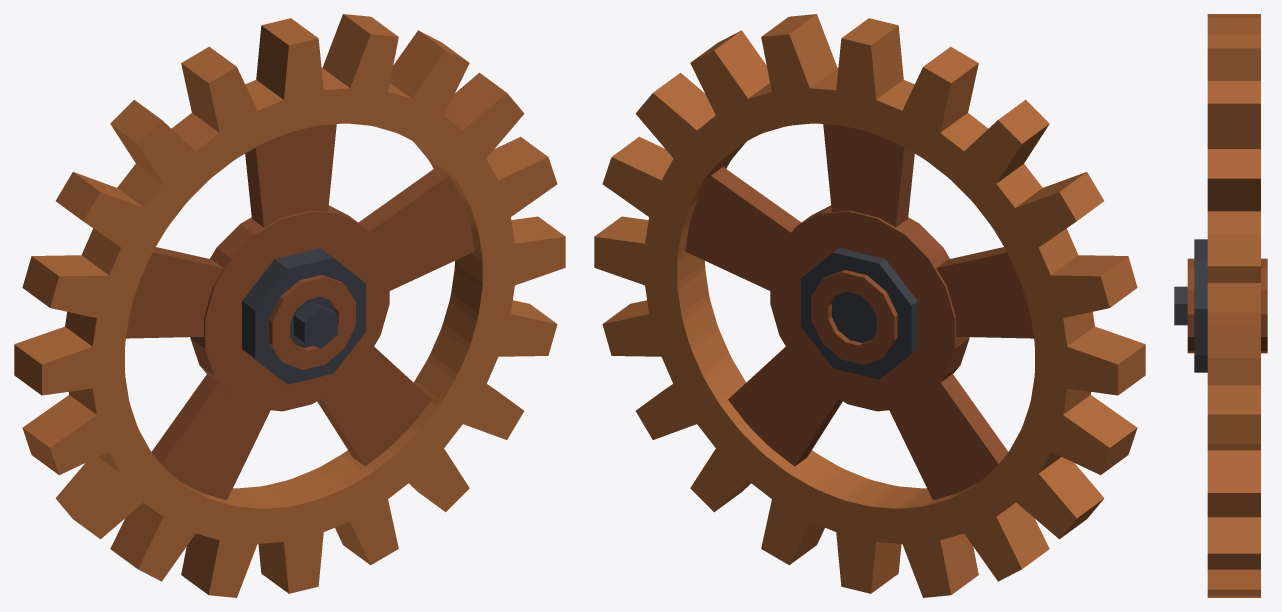
Rendered from gear_fixed_m.fbx.
The picture shows the model from 3 angles, left to right: view 1: azimuth 30°, elevation 25°; view 2: azimuth 150°, elevation 25°; view 3: azimuth 270°, elevation 25°; orthographic projection. The views are drawn at different scales.
Parts seen in each view (by area): view 1: Gear_Fixed_M_Rim, Gear_Fixed_M_Spokes, Gear_Fixed_M_Hub; view 2: Gear_Fixed_M_Rim, Gear_Fixed_M_Spokes, Gear_Fixed_M_Hub; view 3: Gear_Fixed_M_Rim, Gear_Fixed_M_Hub.
Part boxes in pixels (box(x1,y1,x2,y2)): Gear_Fixed_M_Rim: box(14, 14, 565, 597); Gear_Fixed_M_Spokes: box(126, 124, 474, 499); Gear_Fixed_M_Hub: box(242, 248, 365, 384); Gear_Fixed_M_Rim: box(594, 14, 1145, 597); Gear_Fixed_M_Spokes: box(685, 124, 1033, 499); Gear_Fixed_M_Hub: box(800, 248, 917, 379); Gear_Fixed_M_Rim: box(1207, 14, 1260, 597); Gear_Fixed_M_Hub: box(1174, 239, 1267, 372).
Bounding box in the file's own units: 87.46 × 87.46 × 14.
